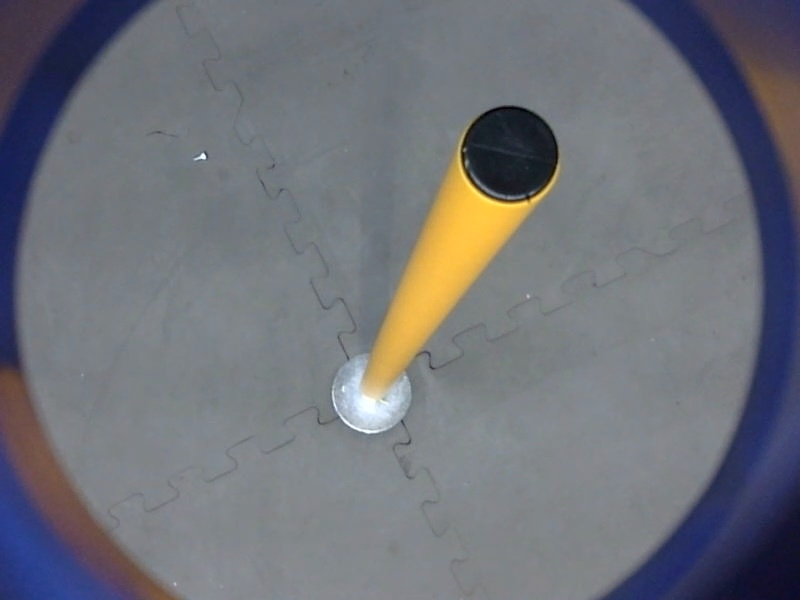tip: (454, 98, 568, 209)
